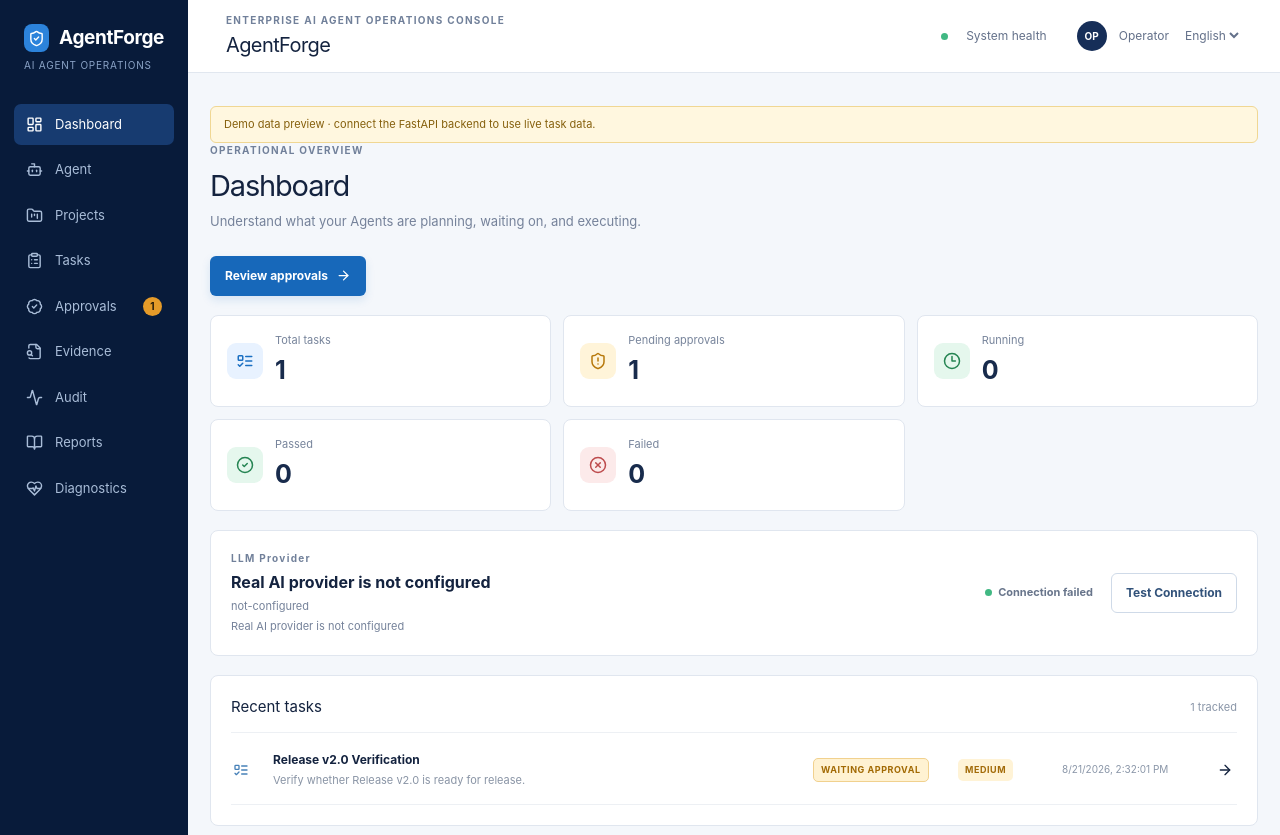
Test: AgentForge operations console › keeps archived Project history readable and disables mutations
Click the button "Projects" at (94, 215), box [14,194,174,236]
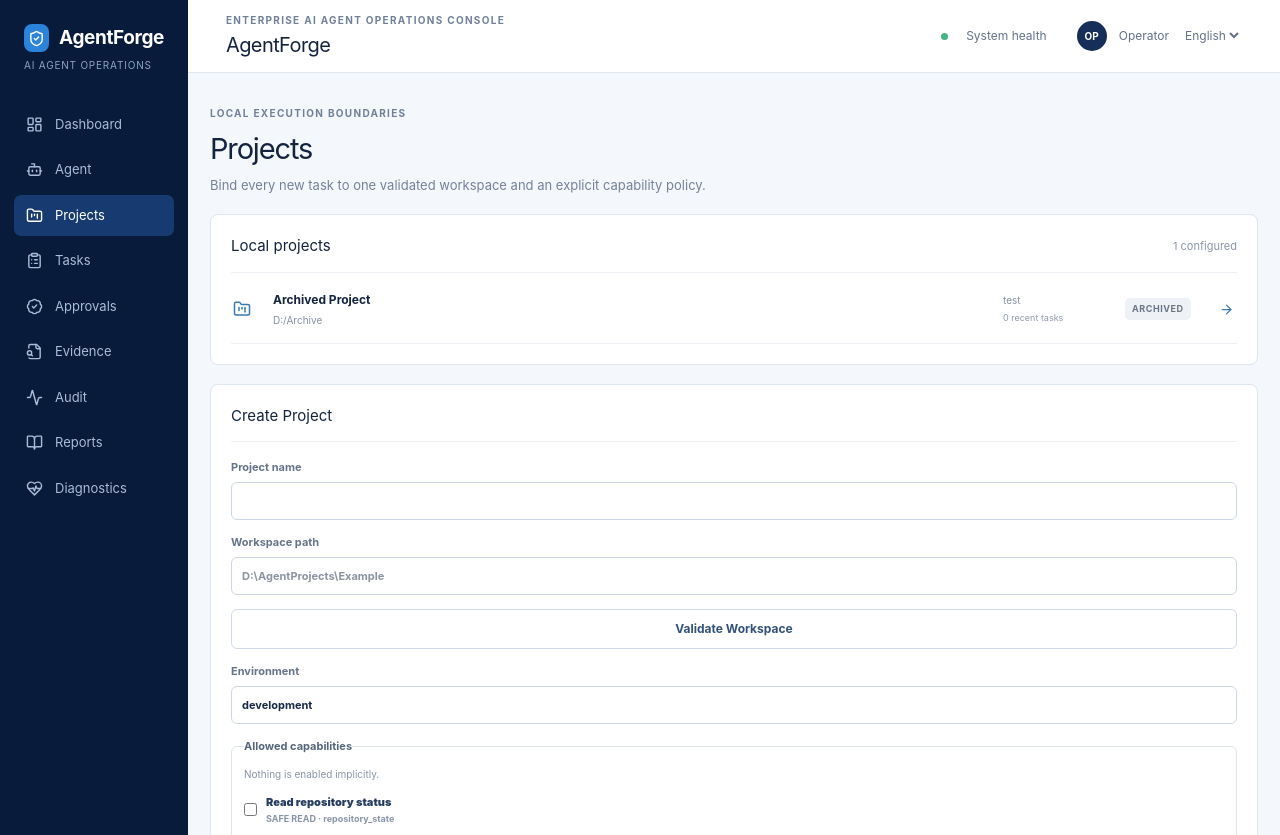
Click the button "Archived Project D:/Archive test 0 recent tasks ARCHIVED" at (322, 299), box [231,276,1237,344]
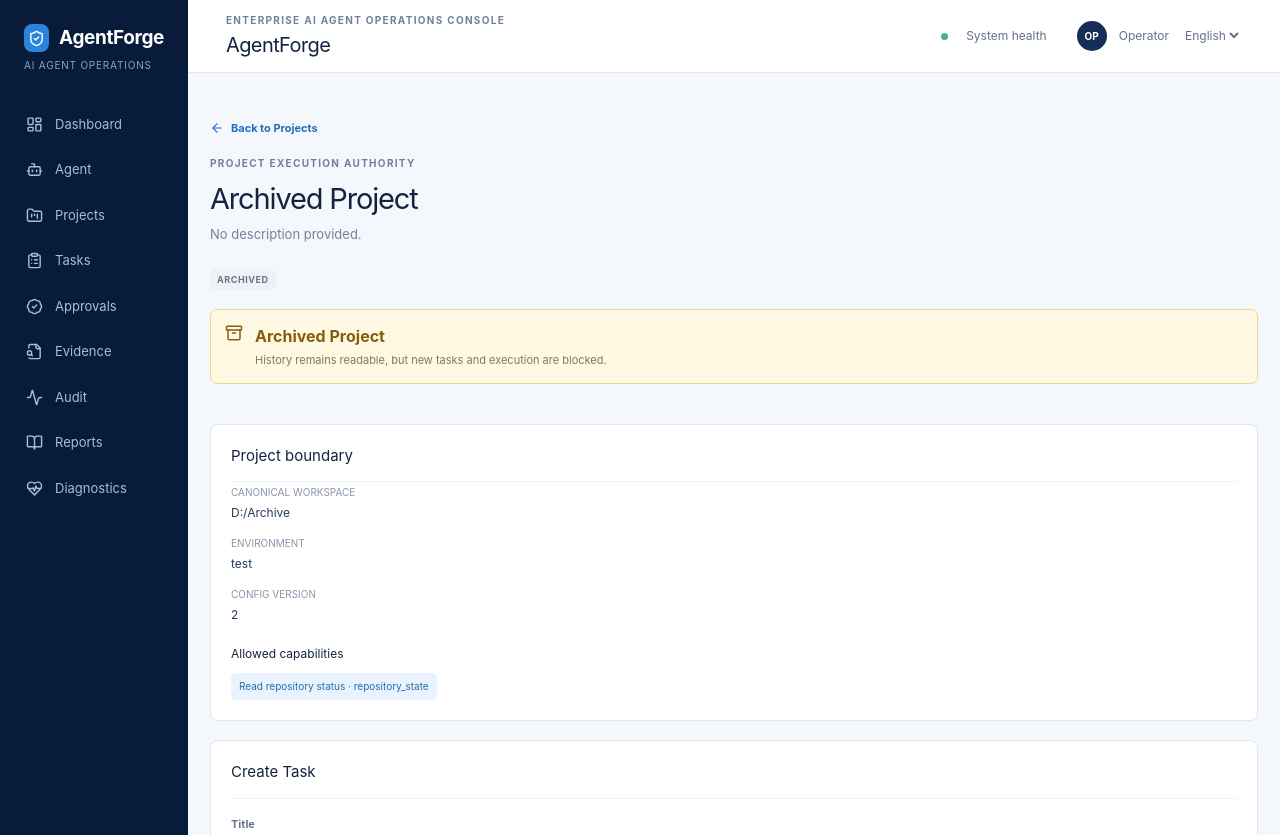
Expected: the heading "Archived Project" is shown, [210,176,418,220]
Expected: the text "History remains readable" is shown, [255,353,607,367]
